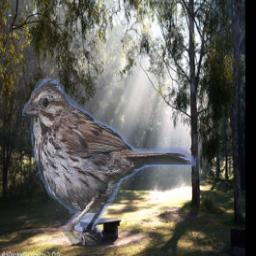Sparrow: (22, 75, 196, 246)
